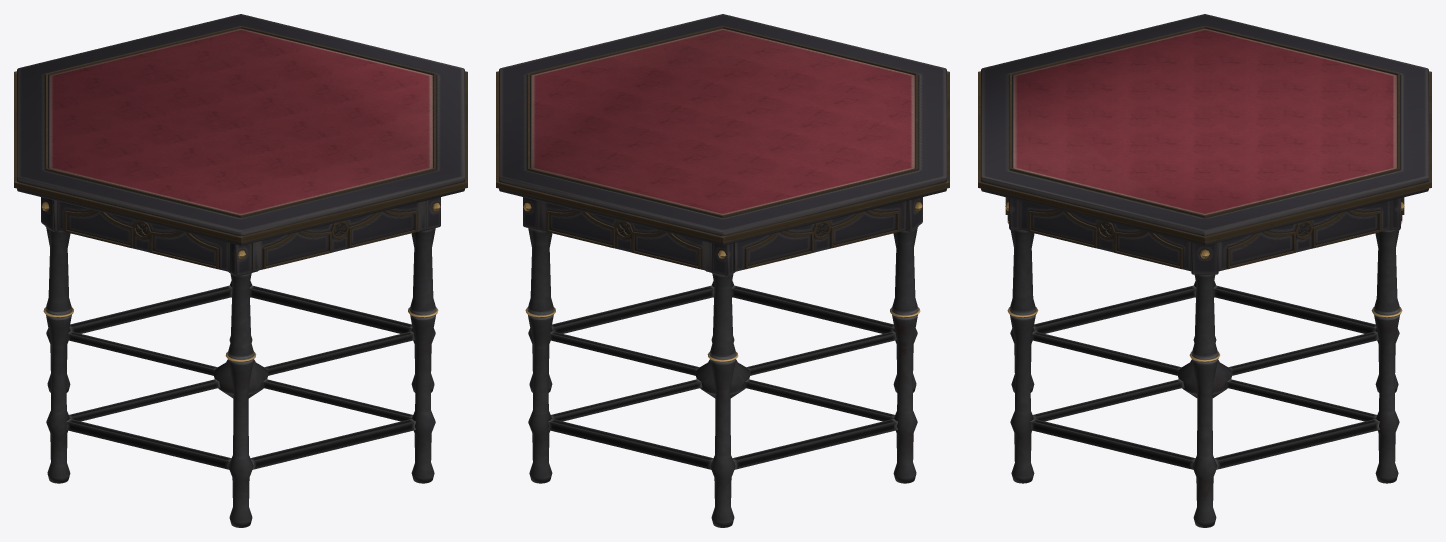
Rendered from TableHexagon.fbx.
The picture shows the model from 3 angles, left to right: view 1: azimuth 30°, elevation 25°; view 2: azimuth 150°, elevation 25°; view 3: azimuth 270°, elevation 25°; orthographic projection.
Parts seen in each view (by area): view 1: TableHexagon; view 2: TableHexagon; view 3: TableHexagon.
Boxes of the visible parts, x1,y1,x2,y2 form: TableHexagon: (14,14,467,527); TableHexagon: (496,14,949,527); TableHexagon: (978,14,1431,527).
Size of the model in its own units: 456 by 301 by 395.
